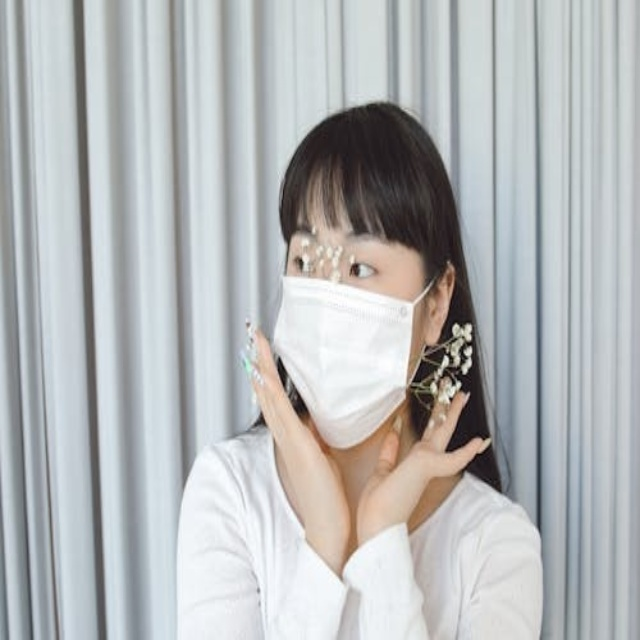Mascara: (274, 262, 439, 448)
Sin_gafas: (278, 217, 408, 294)
Sin_guantes: (230, 311, 347, 554), (355, 379, 500, 555)
